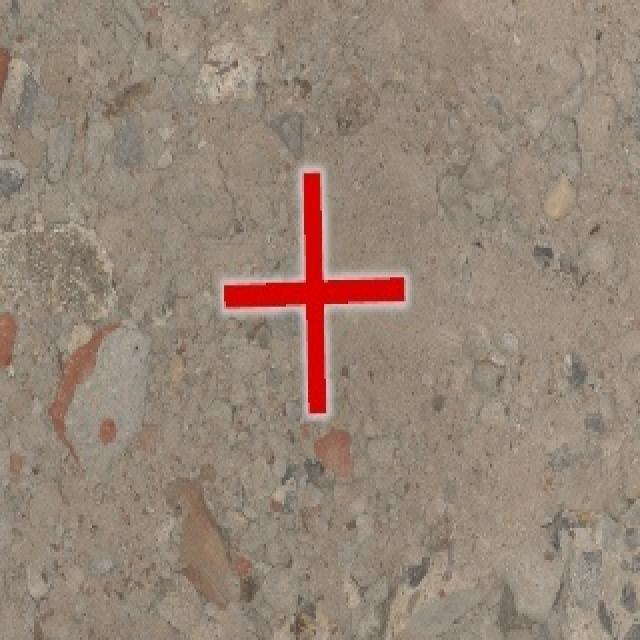x_marker: (223, 169, 405, 415)
